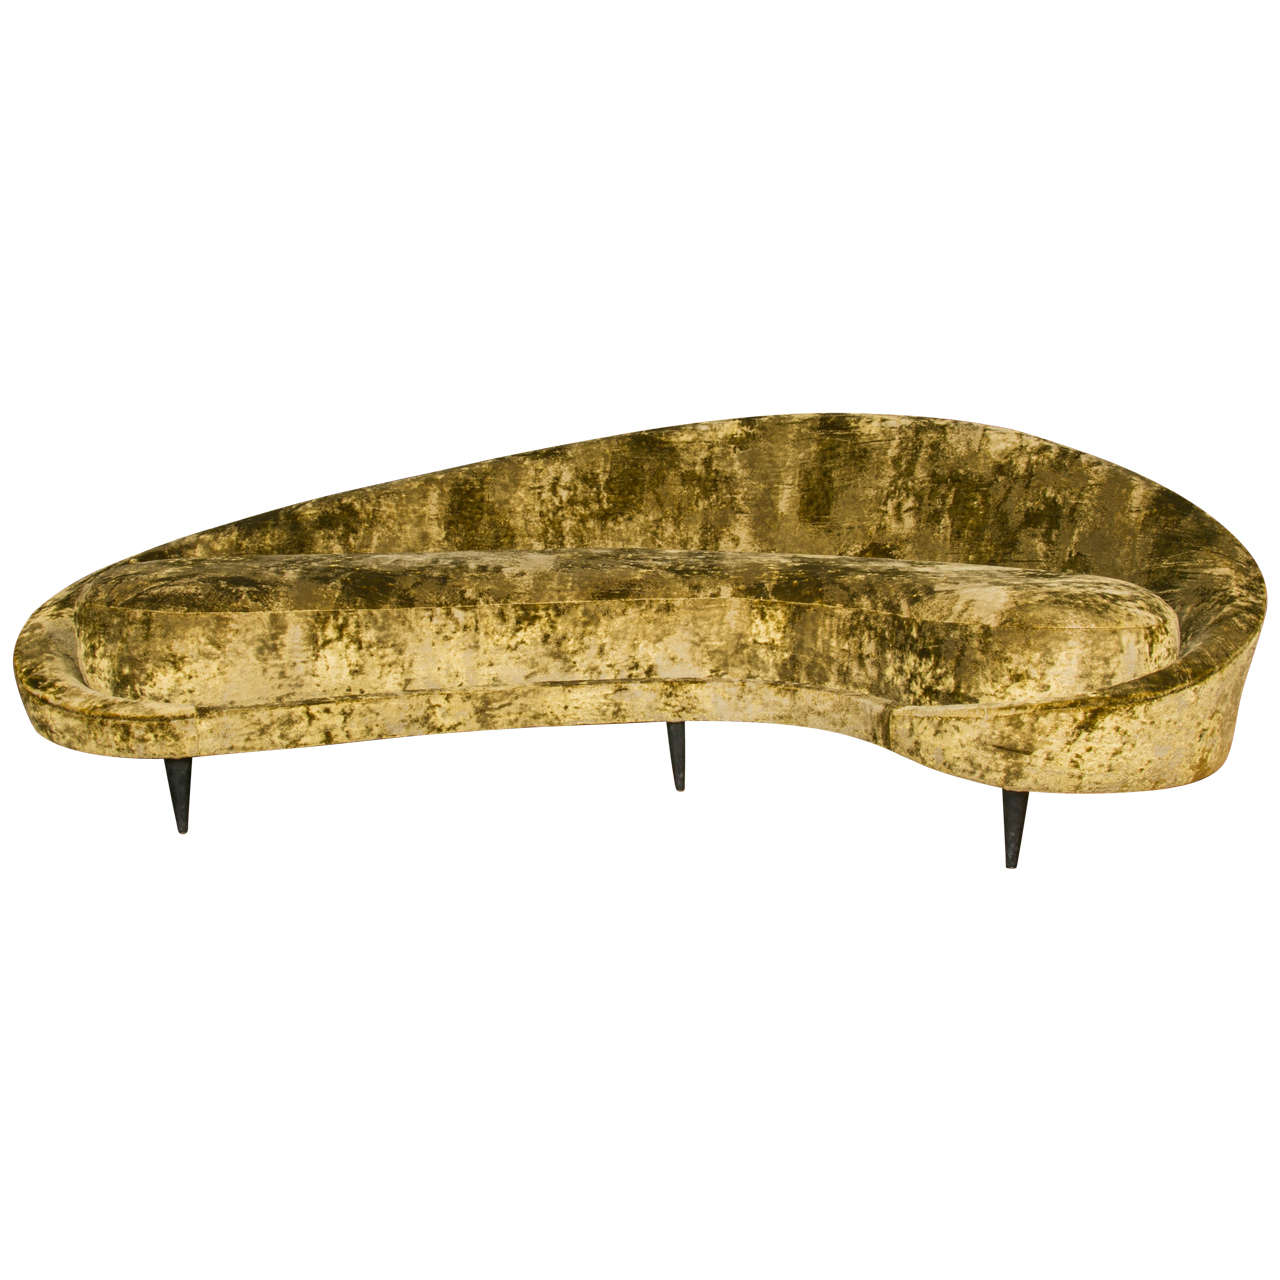chairs: (6, 415, 1273, 877)
